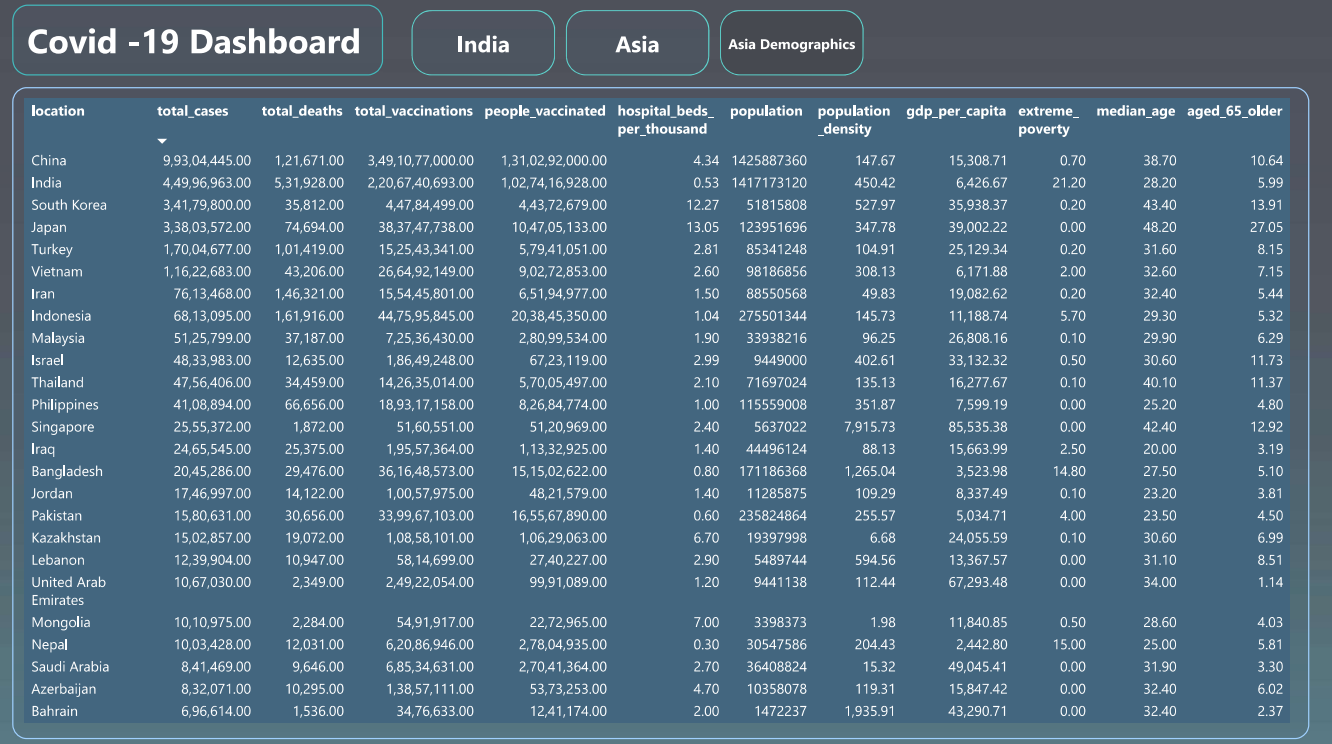

What the dashboard file says about the page in this screenshot:
{"tool":"powerbi","page":{"name":"Asia Report","canvas":[1280,720],"ordinal":2},"visuals":[{"type":"tableEx","fields":{"Values":["owid_covid_latest.location","owid_covid_latest.total_cases","owid_covid_latest.total_deaths","owid_covid_latest.total_vaccinations","owid_covid_latest.people_vaccinated","owid_covid_latest.hospital_beds_per_thousand","owid_covid_latest.population","owid_covid_latest.population_density","owid_covid_latest.gdp_per_capita","owid_covid_latest.extreme_poverty","owid_covid_latest.median_age","owid_covid_latest.aged_65_older"]},"box":[20.6,89.1,1228.5,617],"z":0},{"type":"textbox","box":[20.6,11,351,67.2],"z":4000},{"type":"pageNavigator","box":[399,16.5,389.4,61.7],"z":4003}]}

Visuals, with their boxes in screenshot pixels (x1, y1, x2, y2), scaled from the page's 1280x720 canvas onto the 1332x744 screenshot:
tableEx - owid_covid_latest.location x owid_covid_latest.total_cases: locate(21, 92, 1300, 730)
textbox: locate(21, 11, 387, 81)
pageNavigator: locate(415, 17, 820, 81)
